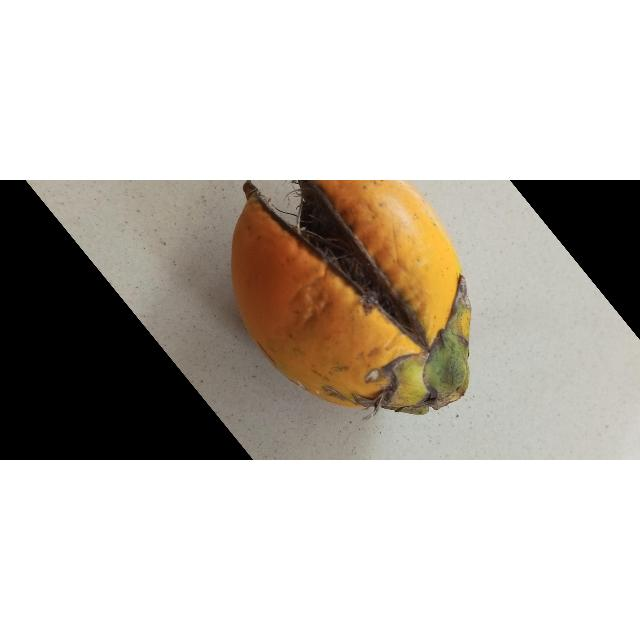damaged: (232, 180, 471, 416)
